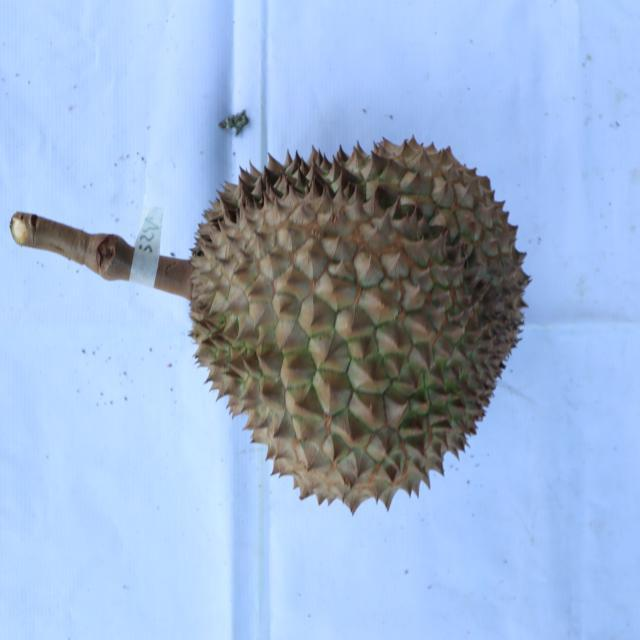mature: (183, 134, 533, 513)
